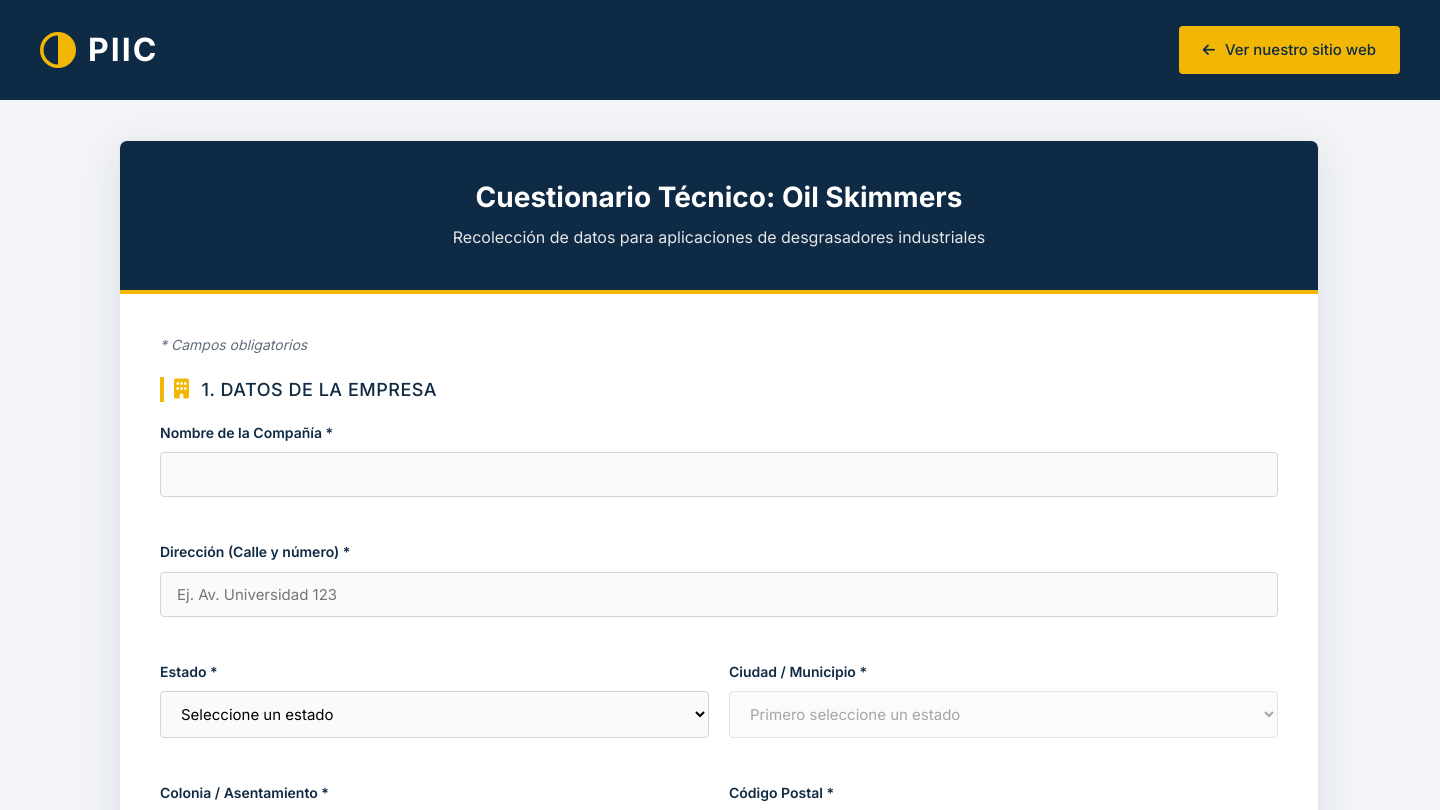
Test case: OilSkimmersForm Component › auto-fills zip code when colonia is selected
This screenshot has width=1440, height=810.
Select "Jalisco" in the dropdown labelled "Estado *" at (434, 714), box [160,691,709,738]
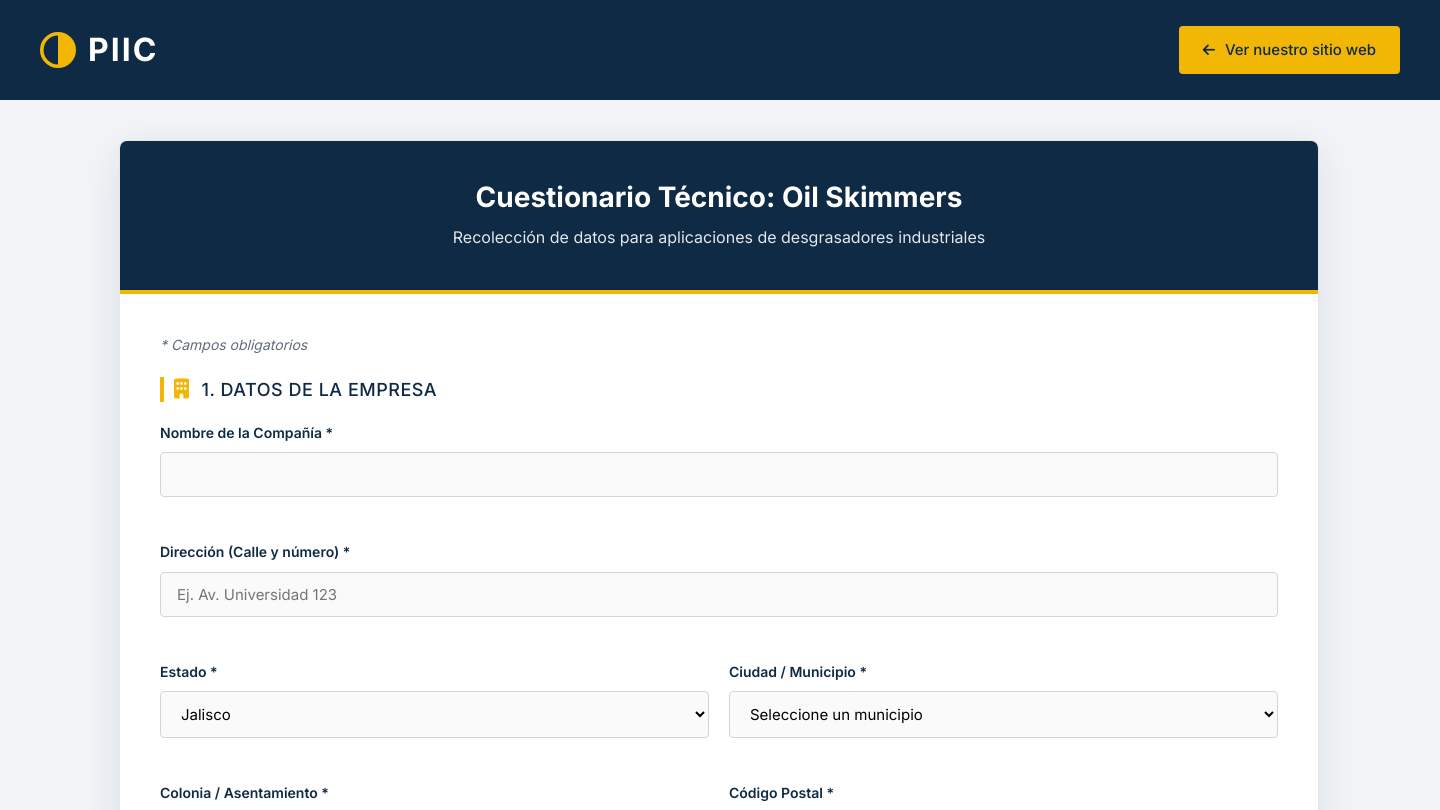
Select "Guadalajara" in the dropdown labelled "Ciudad / Municipio *" at (1004, 714), box [729,691,1278,738]
(page scrolled)
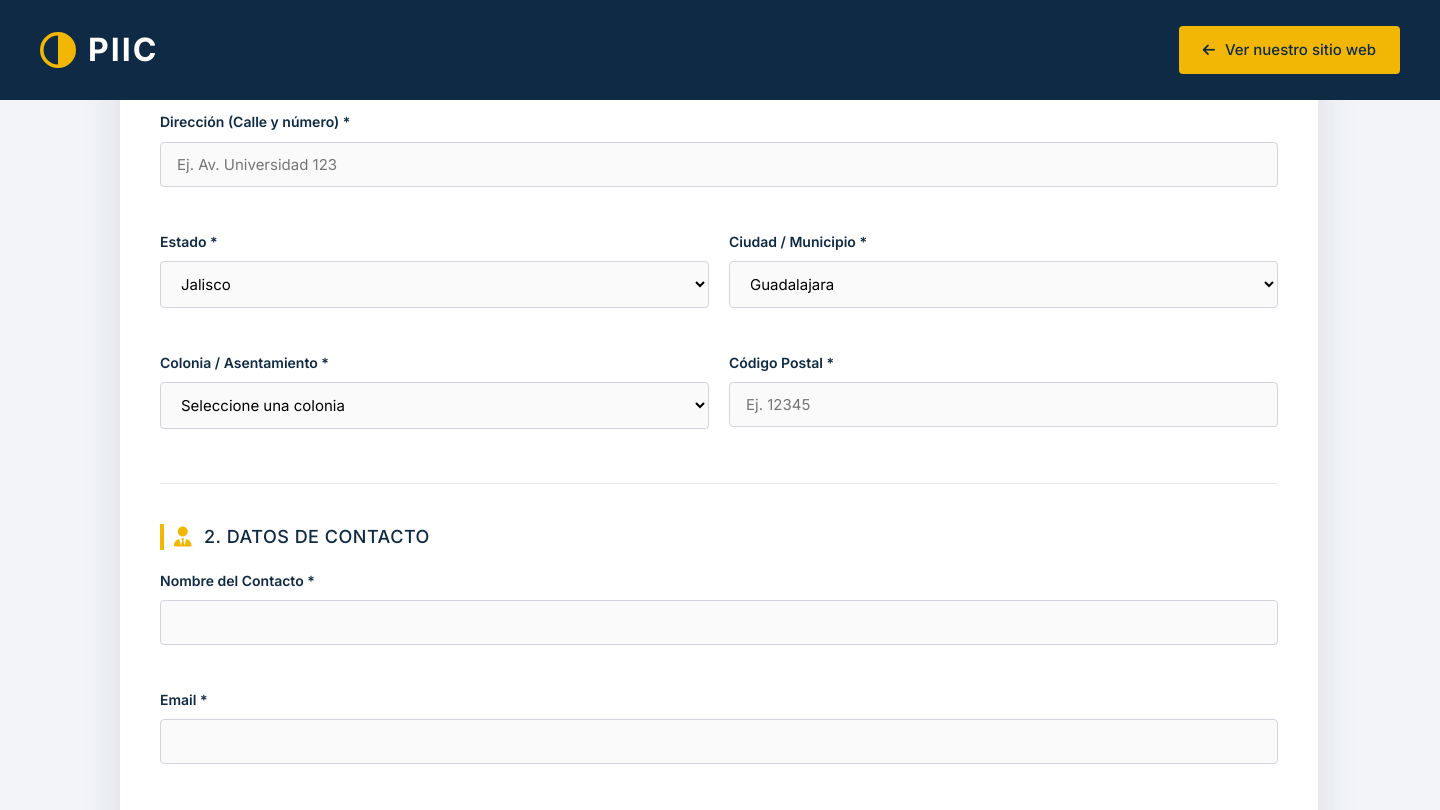
Select "Centro" in the dropdown labelled "Colonia / Asentamiento *" at (434, 406), box [160,382,709,429]
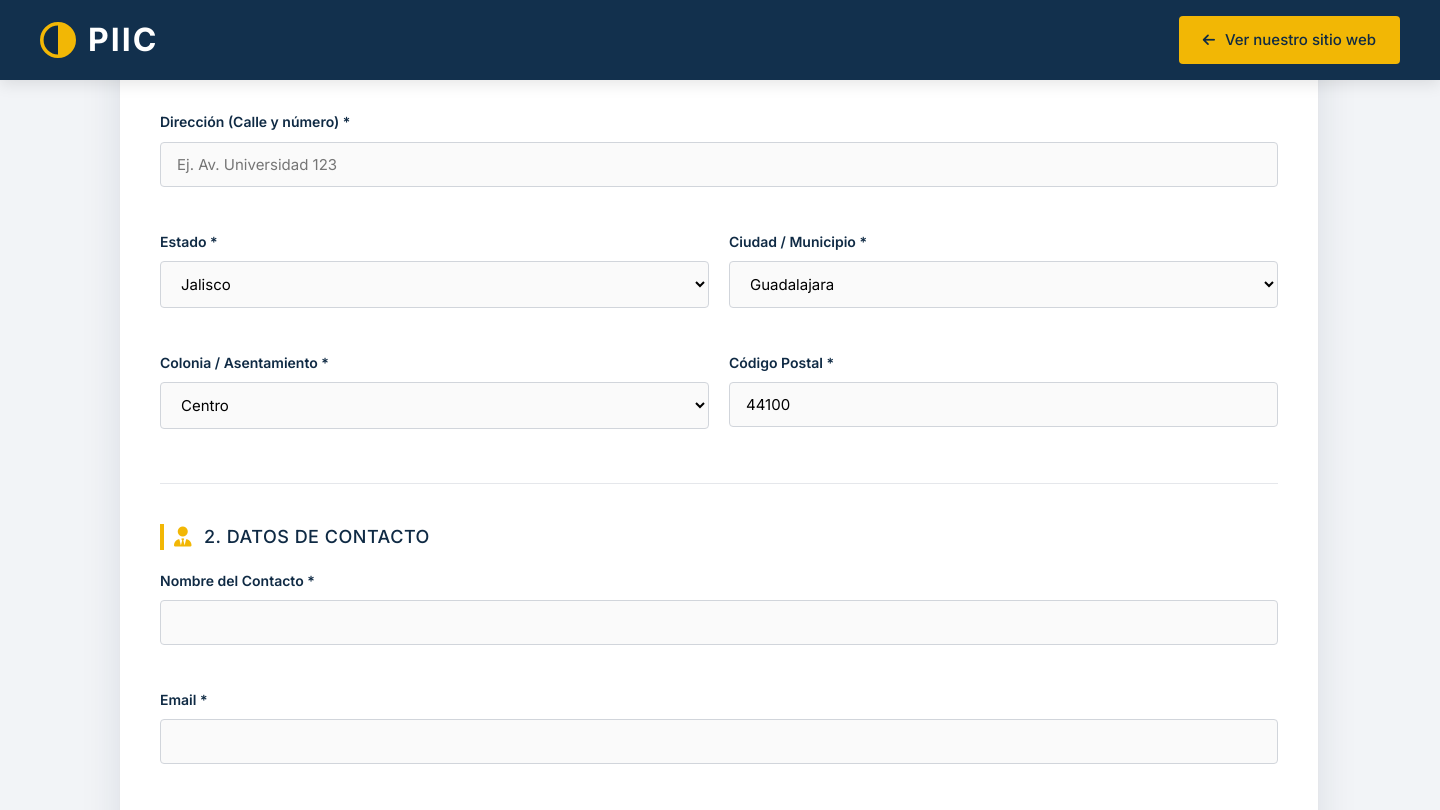
Expected: the field labelled "Código Postal *" holds "44100", [729,382,1278,427]
